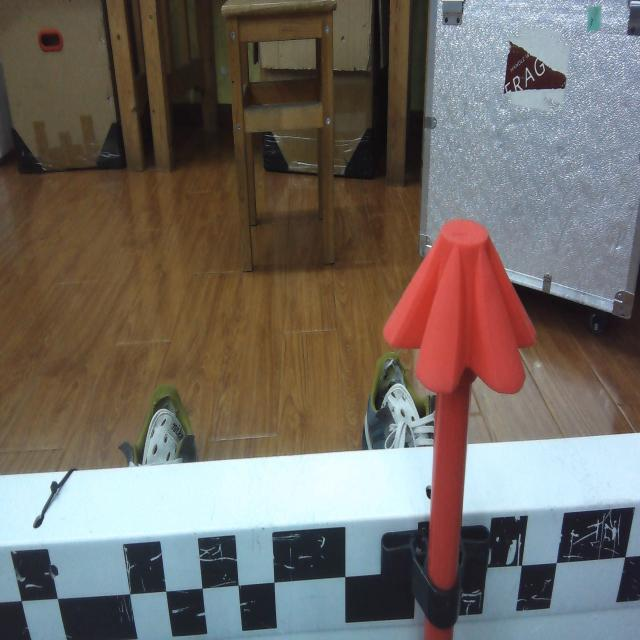zred-Stake-Head: (383, 218, 536, 396)
